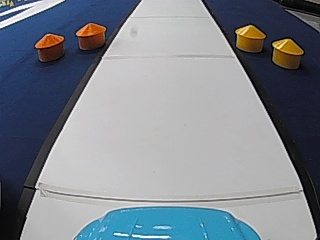granary: (269, 35, 305, 68), (73, 20, 107, 50), (233, 22, 266, 52), (33, 30, 64, 61)
